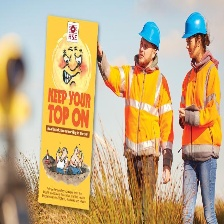helmet: (179, 10, 209, 42), (137, 22, 165, 53)
person: (118, 20, 172, 224), (179, 11, 221, 224)
vest: (124, 58, 168, 175), (182, 63, 221, 169)
